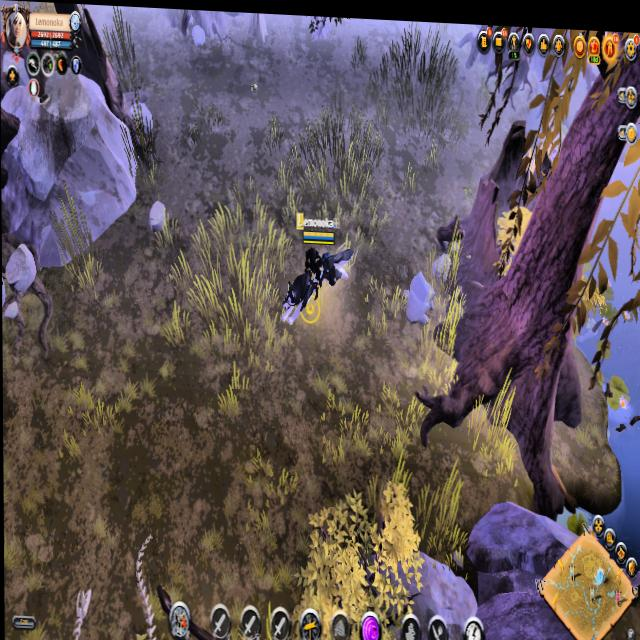rock tier 1: (400, 262, 436, 324)
